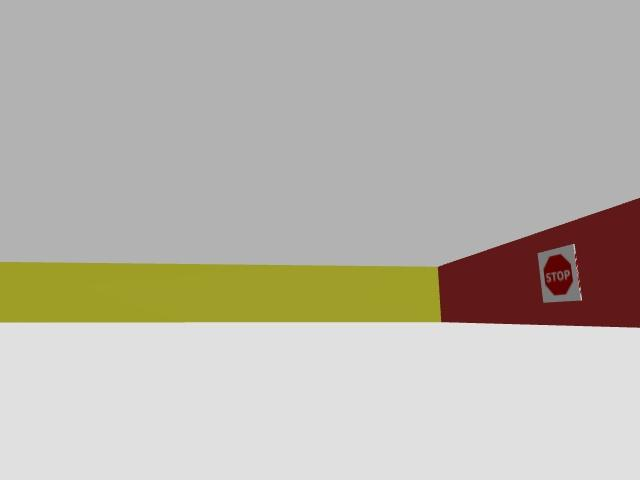stop: (539, 244, 581, 302)
